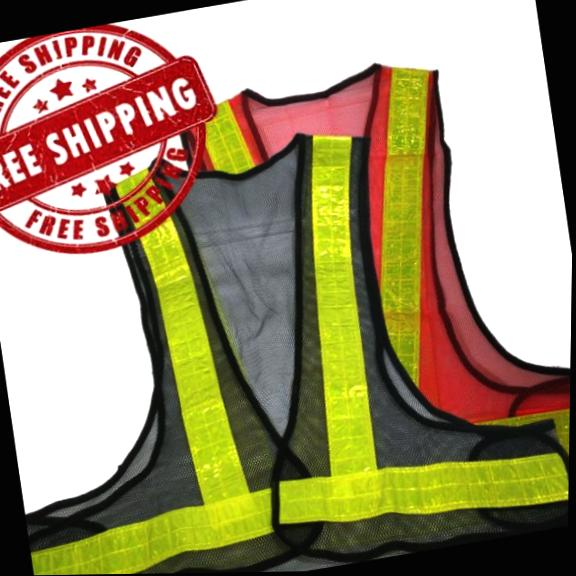safety_vest: (0, 86, 575, 576), (169, 38, 575, 544)
